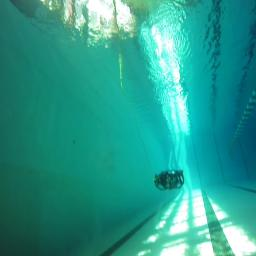Side: (154, 169, 185, 191), (154, 170, 185, 190)
